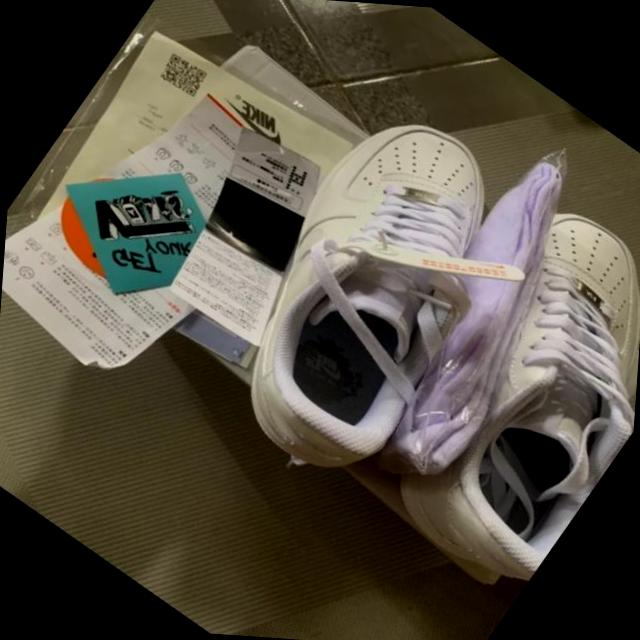nike_fake_airforce: (150, 60, 576, 523), (343, 179, 640, 604)
